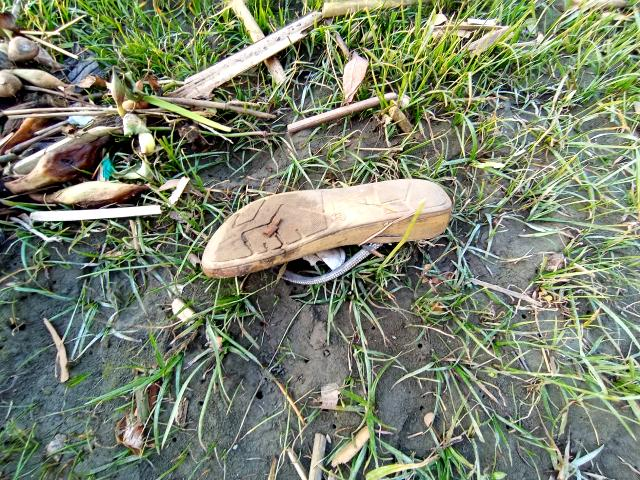sandal: (182, 138, 472, 300)
